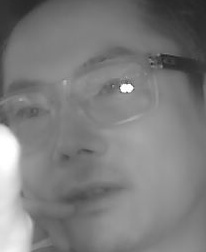eye: (16, 102, 52, 121)
glass: (71, 52, 156, 125), (2, 85, 61, 153)
mouth: (58, 176, 126, 211)
